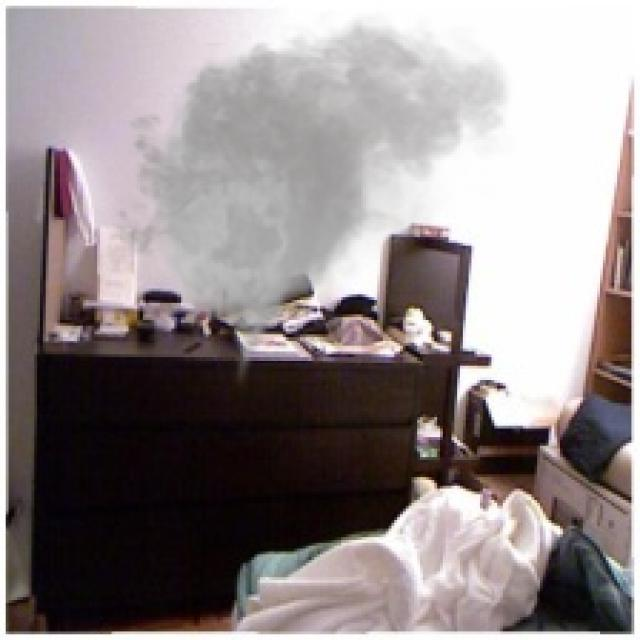smoke: (100, 3, 517, 388)
